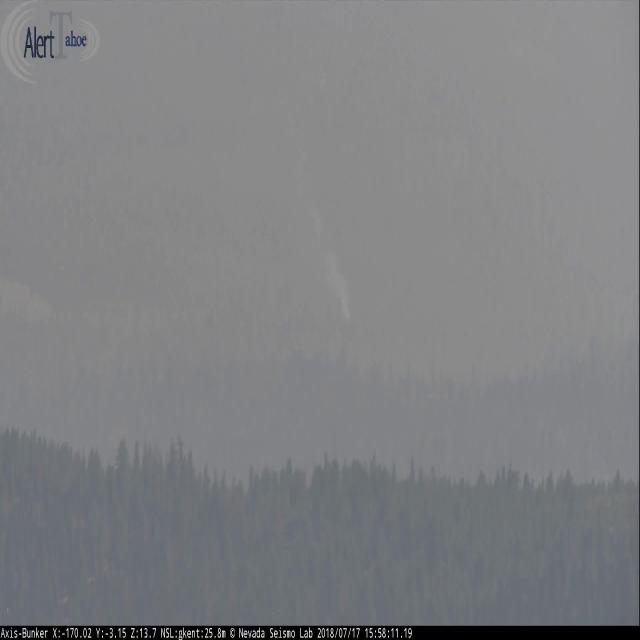smoke: (302, 194, 355, 323)
